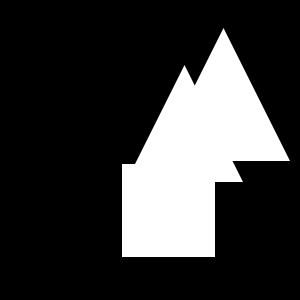circle: (122, 164, 215, 257)
triangle: (157, 28, 290, 161), (126, 65, 243, 182)
